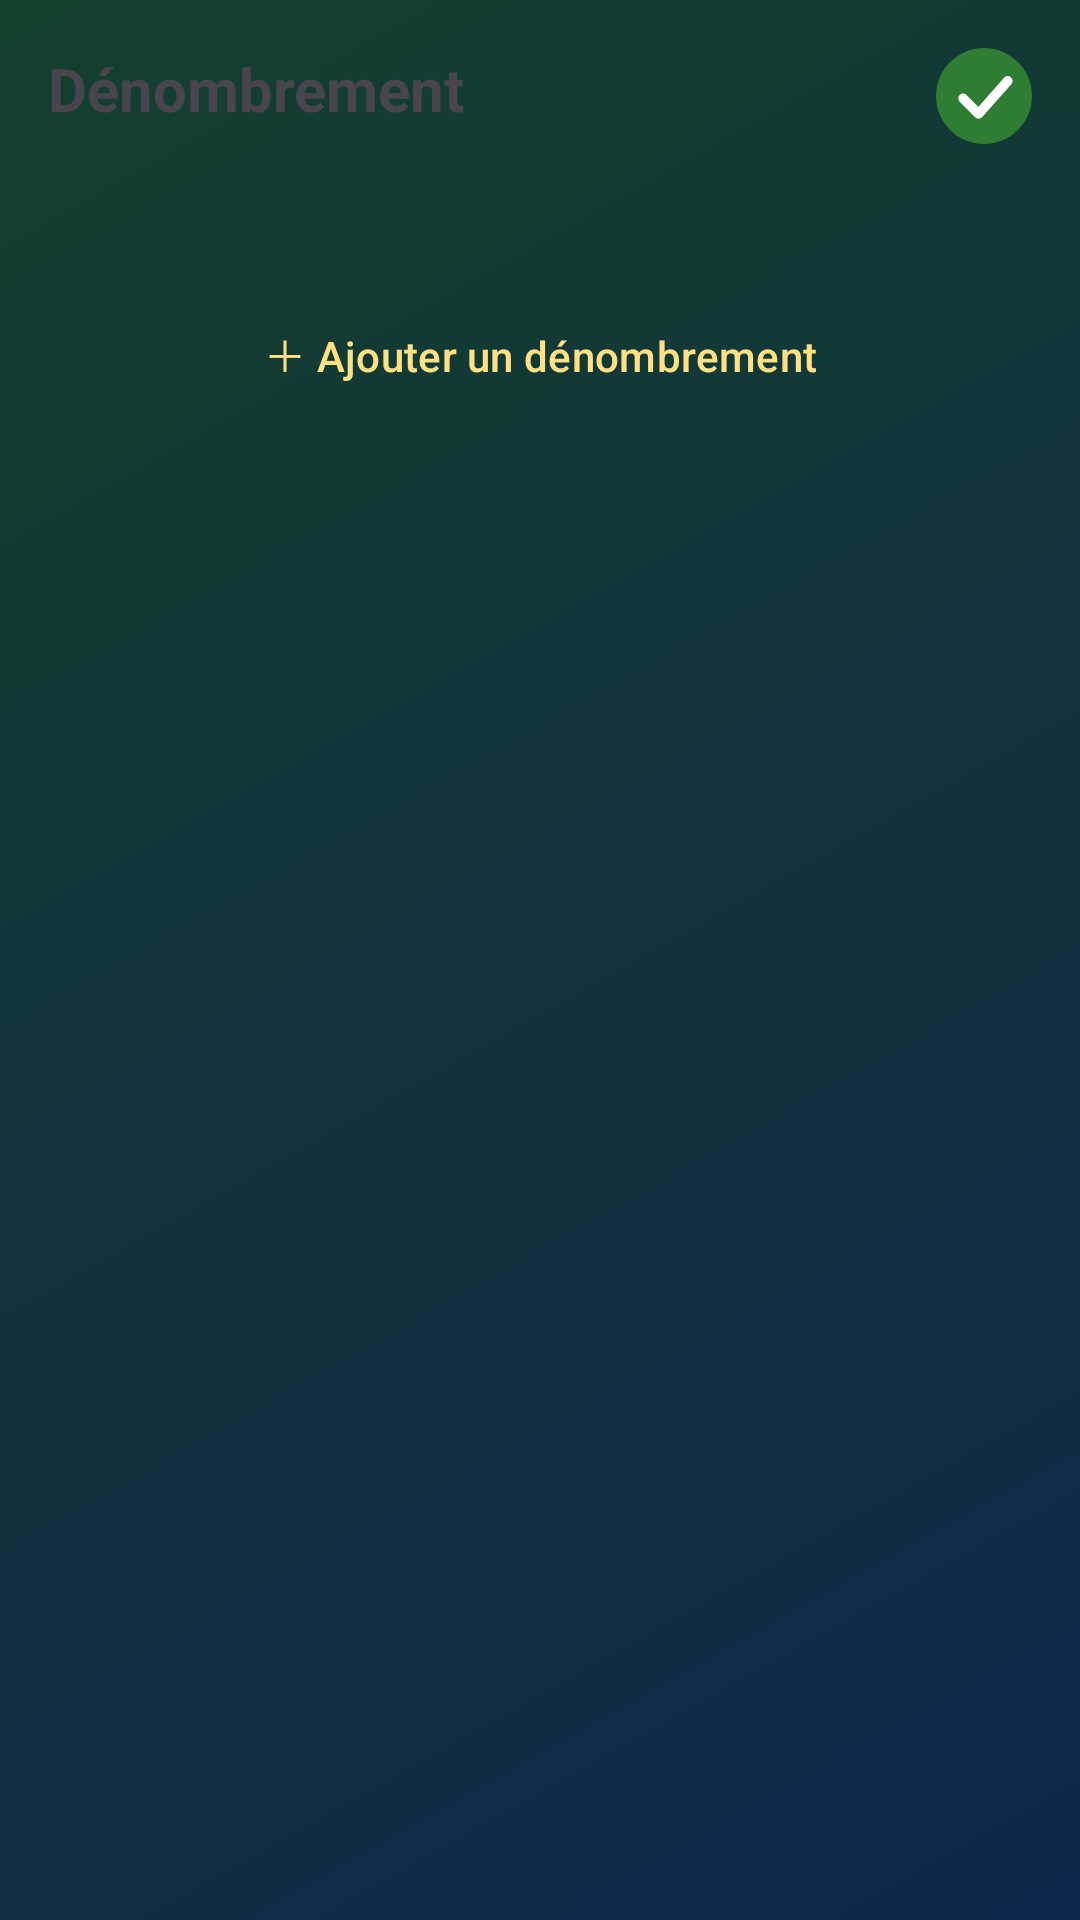

Icons on this 1080 × 1920 Android screen, each with its box as (x1, y1, x2, y2):
Valider: (936, 48, 1032, 144)
